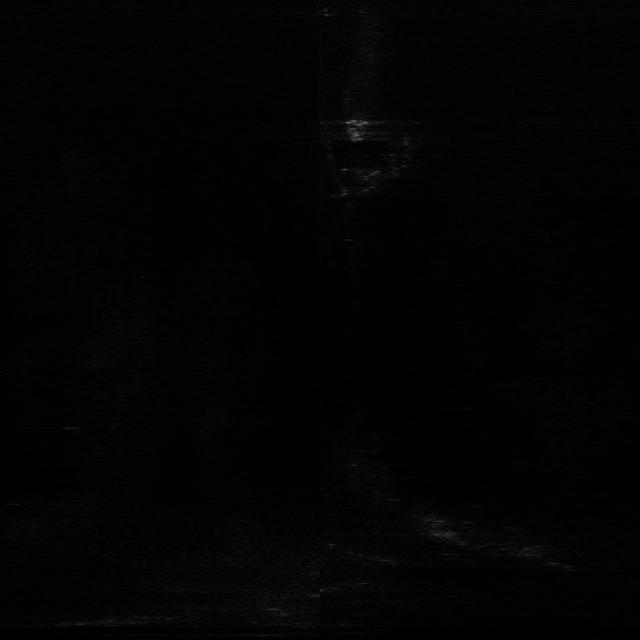rov: (340, 116, 376, 144)
